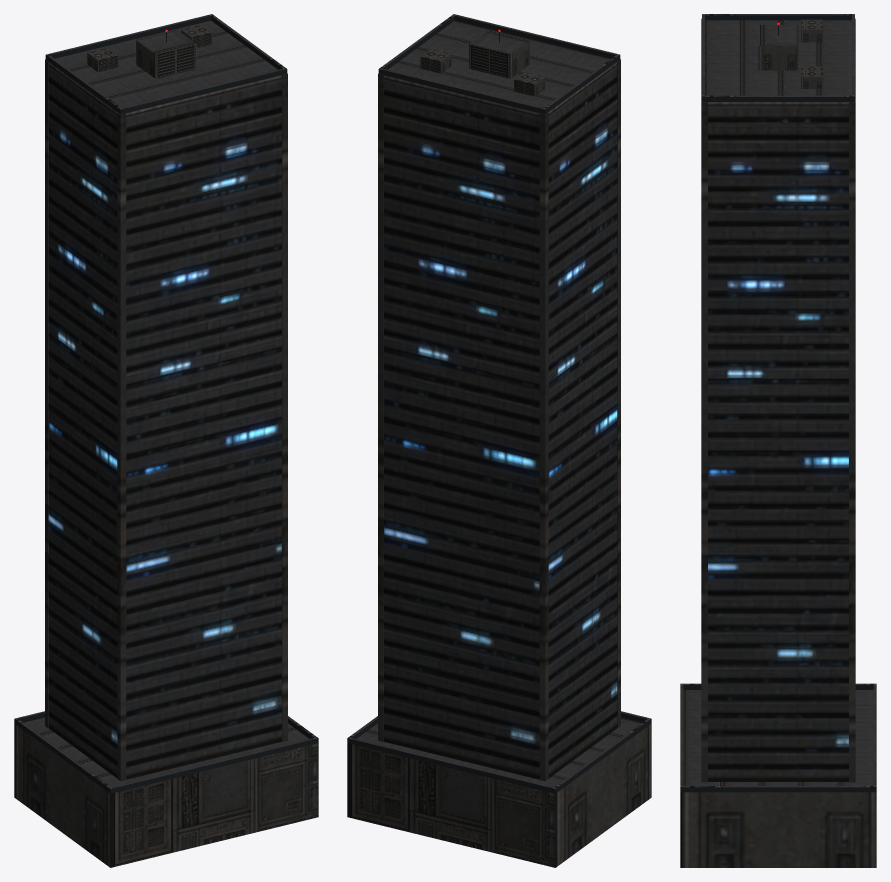
Rendered from commercial-legacy-louver-01.glb.
3 views of the same model, side by side, from view 1: azimuth 30°, elevation 25°; view 2: azimuth 150°, elevation 25°; view 3: azimuth 270°, elevation 25° (orthographic). The views are drawn at different scales.
Visible parts, largest first — view 1: commercial-legacy-louver-01; view 2: commercial-legacy-louver-01; view 3: commercial-legacy-louver-01.
Part boxes in pixels (x1,y1,x2,y2): commercial-legacy-louver-01: (14, 14, 318, 867); commercial-legacy-louver-01: (347, 14, 651, 867); commercial-legacy-louver-01: (680, 14, 876, 867).
Bounding box in the file's own units: 40 × 143 × 32.
1 material, 1 textured.
